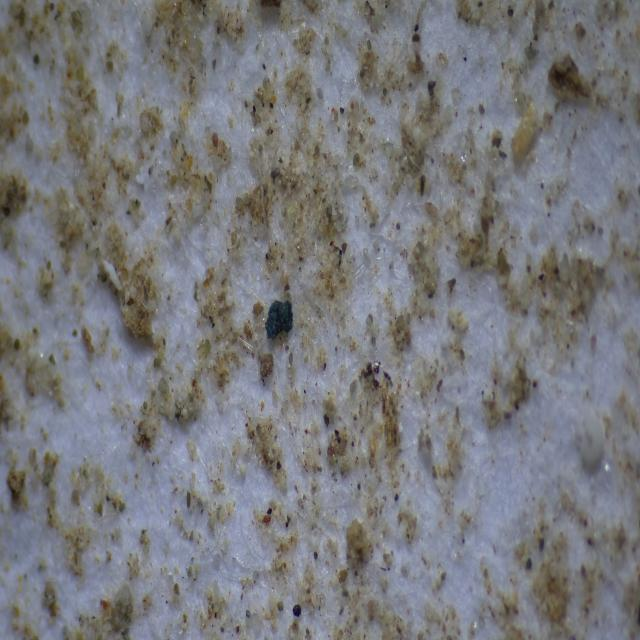microplastic: (255, 290, 298, 343)
